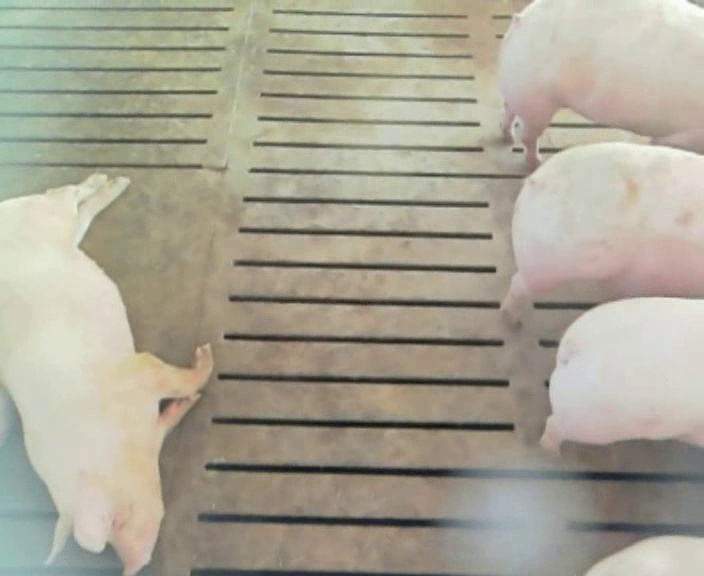pig: (0, 174, 212, 574), (501, 143, 703, 326), (498, 2, 703, 166), (541, 299, 703, 450), (586, 536, 703, 575)
